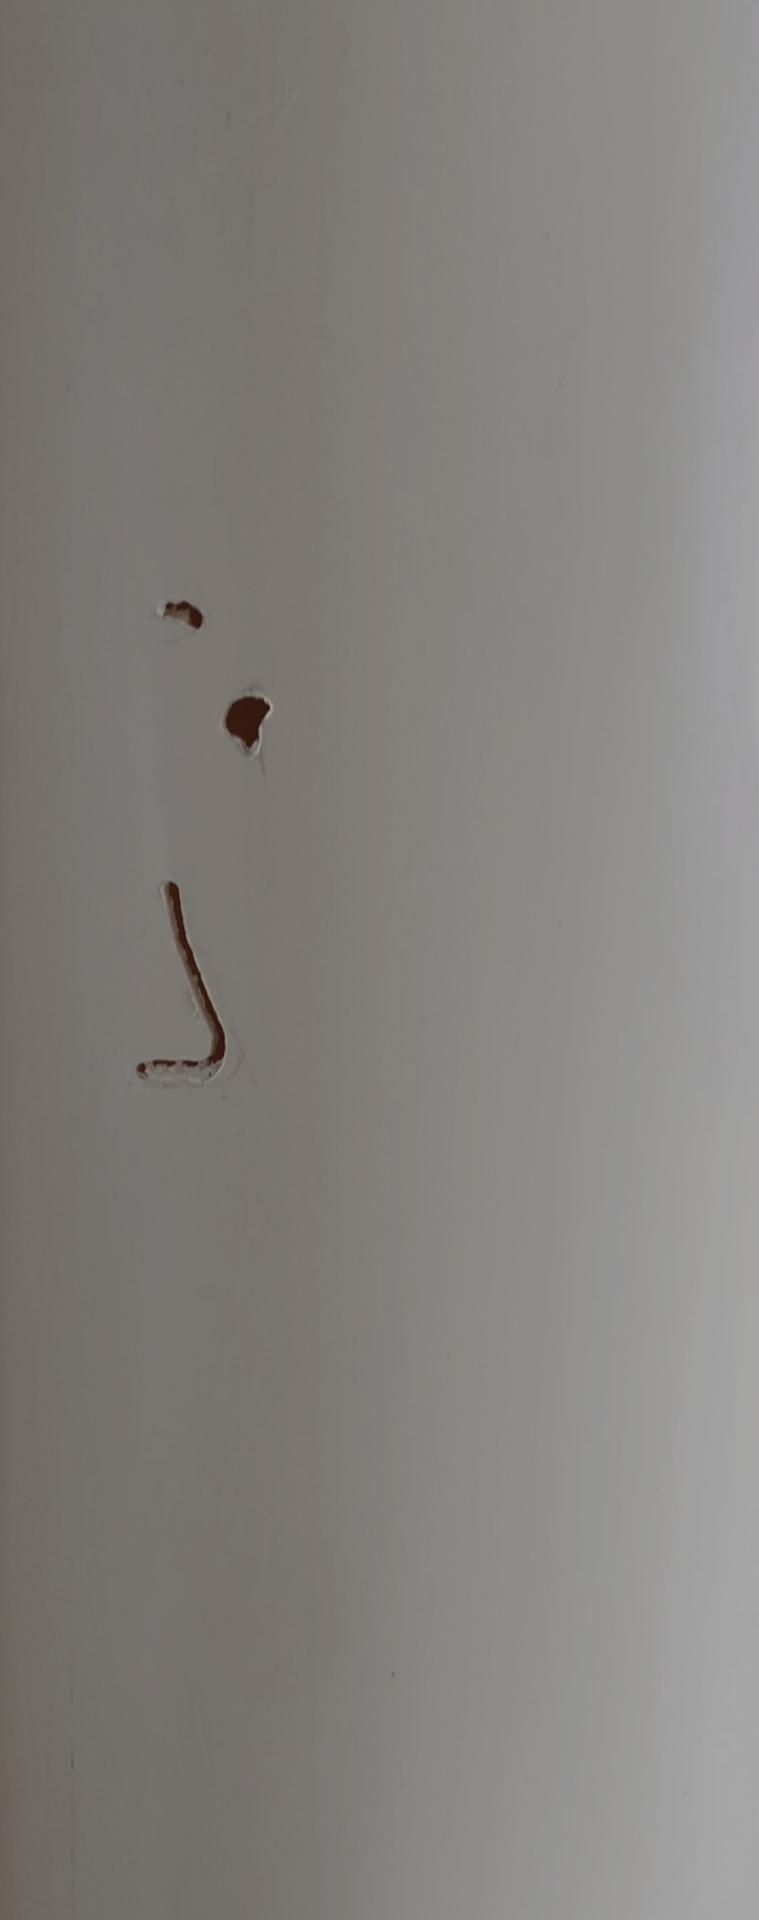fengxi: (127, 864, 247, 1104)
kongdong: (200, 676, 283, 770), (152, 579, 217, 645)
